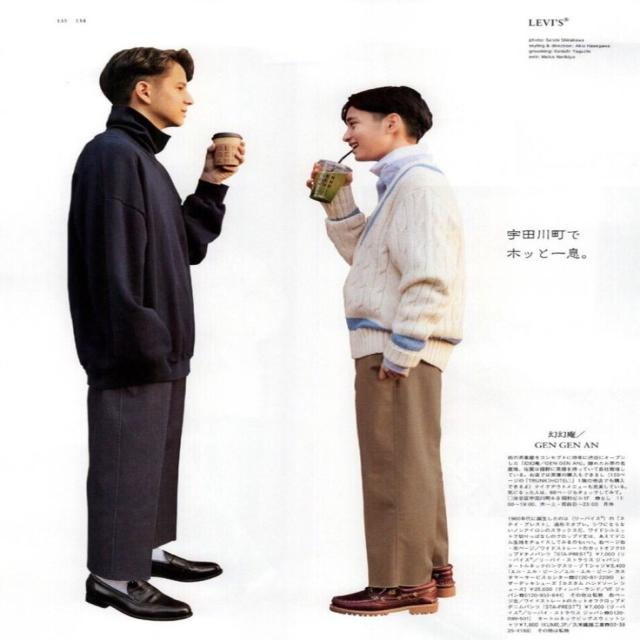person: (66, 46, 245, 621), (306, 85, 466, 616)
